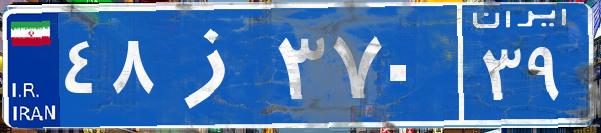0: (385, 28, 445, 110)
3: (273, 28, 330, 110), (475, 38, 525, 113)
4: (57, 26, 110, 107)
7: (330, 28, 385, 110)
8: (110, 28, 158, 105)
9: (525, 38, 570, 115)
ز: (158, 15, 273, 115)
